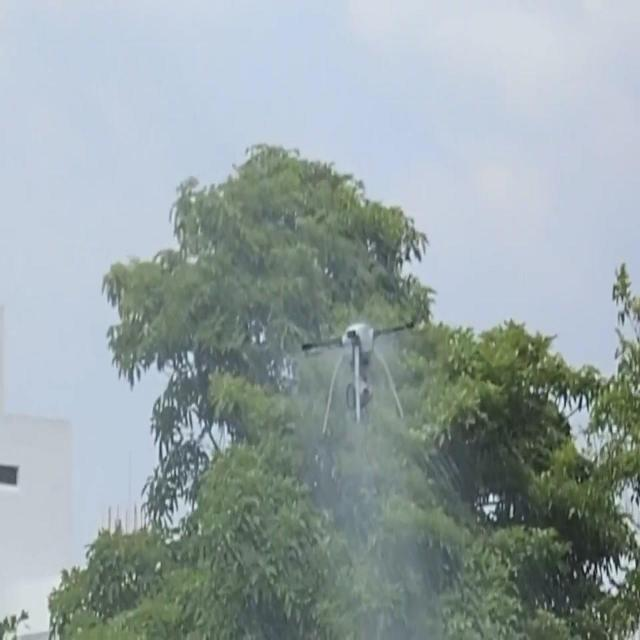UAV: (301, 322, 413, 434)
